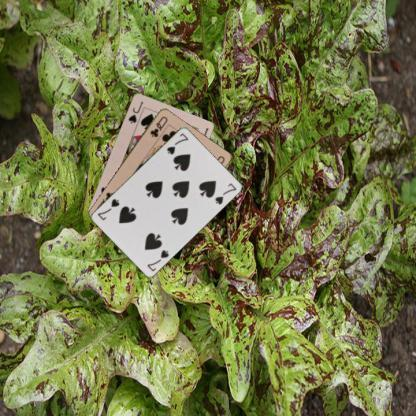7s: (164, 130, 190, 156), (144, 247, 170, 272)
Js: (126, 99, 144, 125)
Qc: (147, 113, 169, 138)
